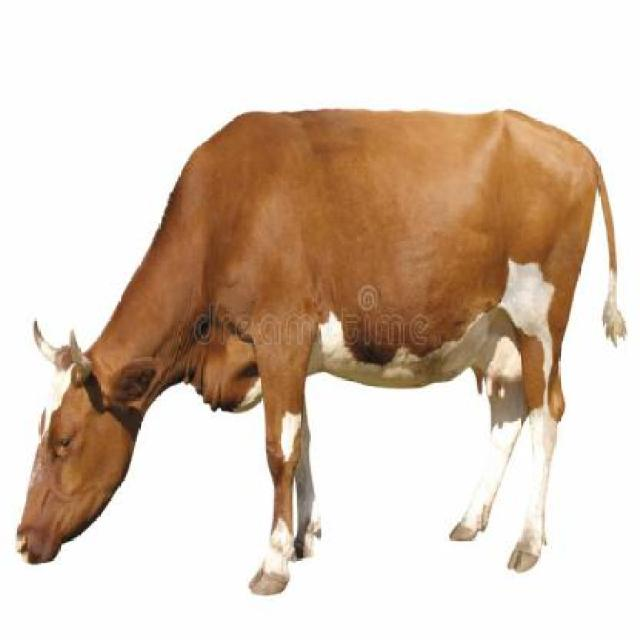Cow: (16, 101, 630, 597)
